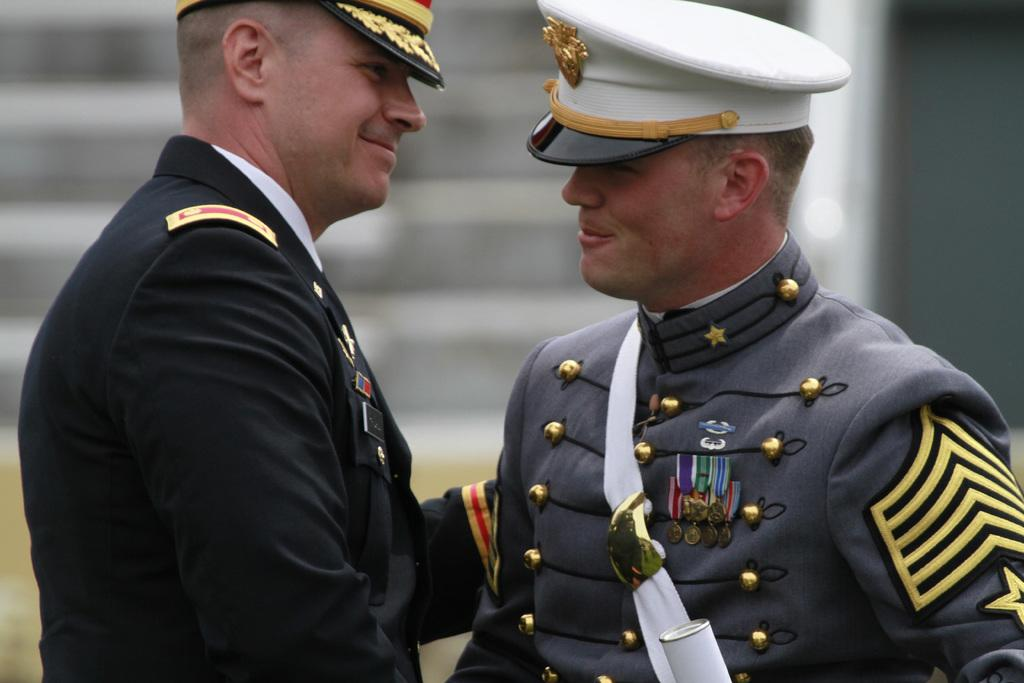Hat: (524, 0, 850, 167), (169, 0, 446, 90)
